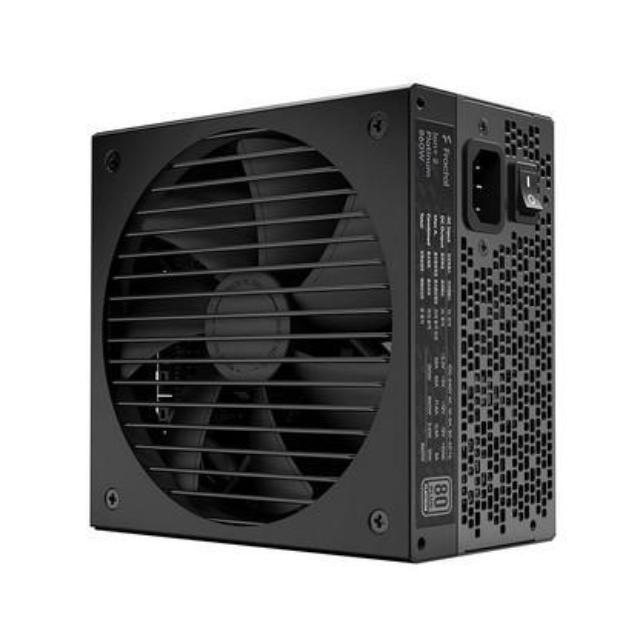PSU: (72, 69, 570, 571)
